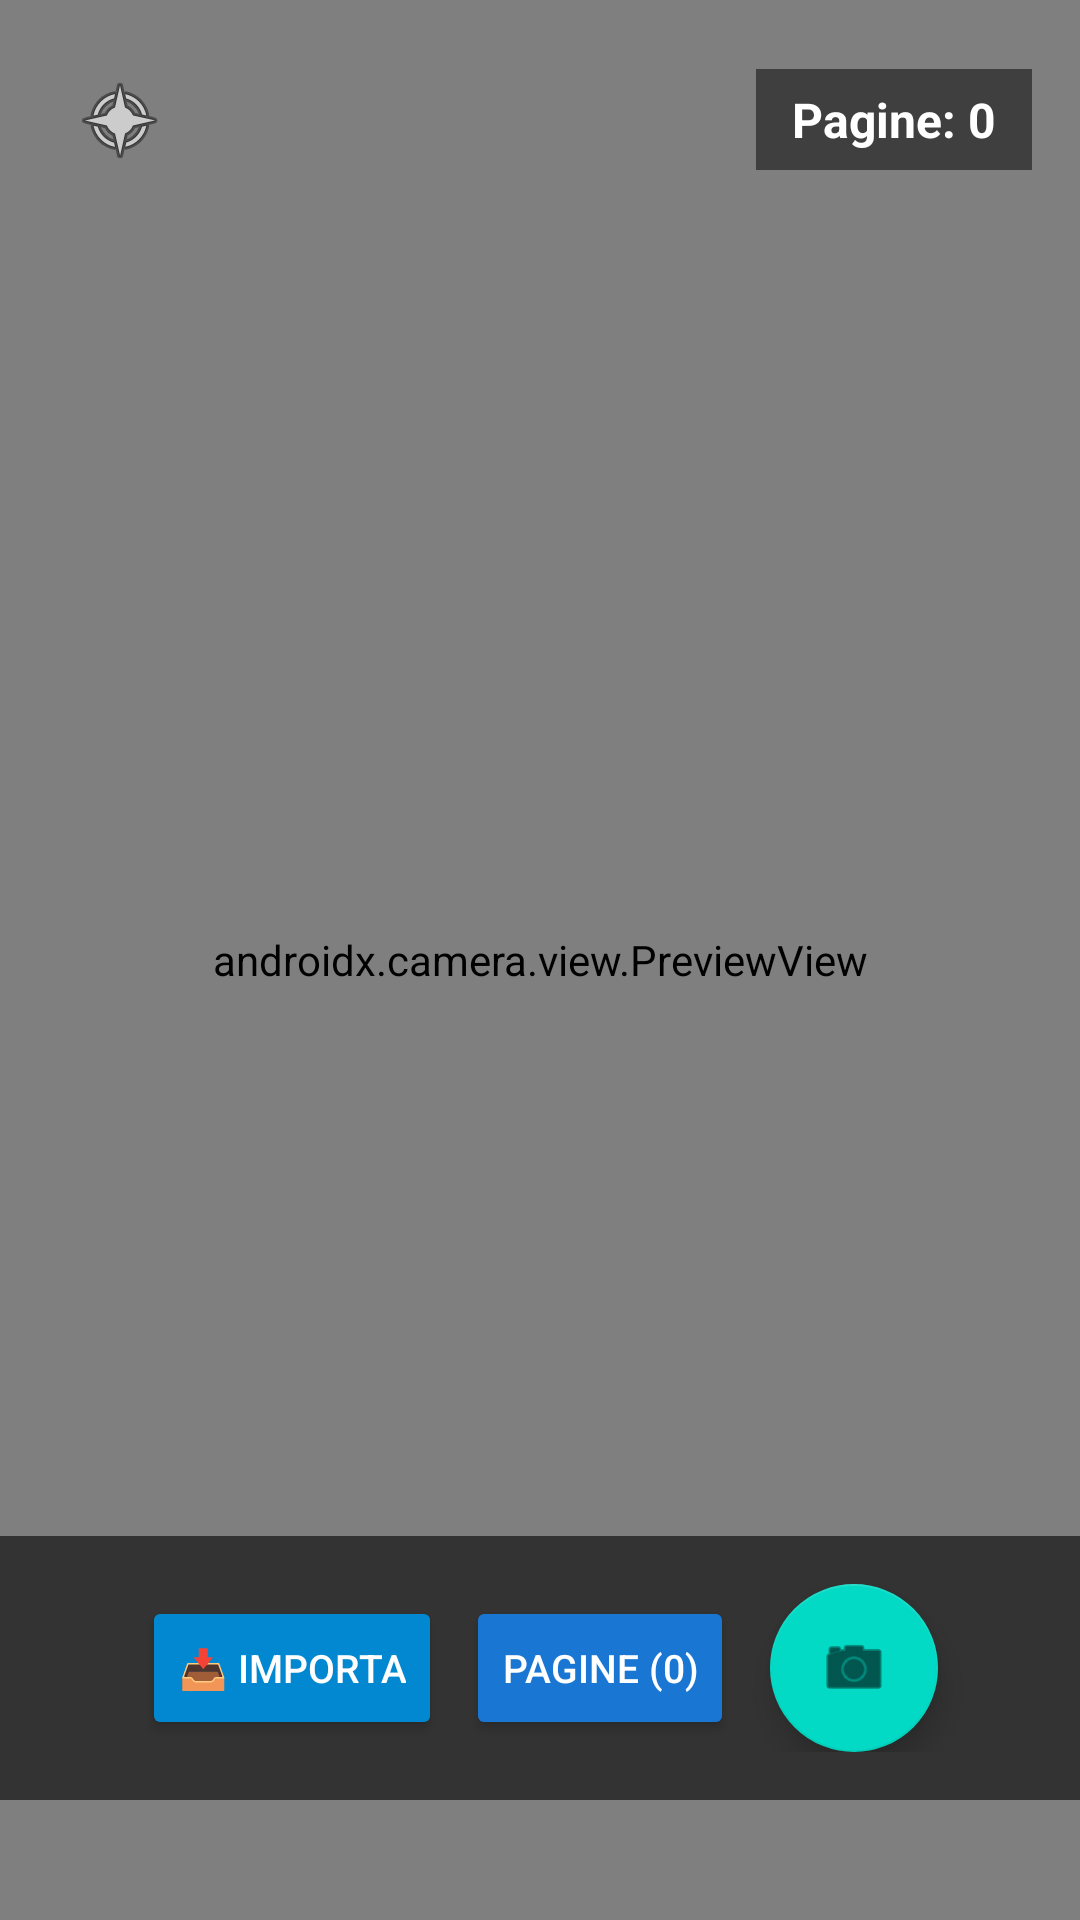

Icons on this 1080px x 1920px Android screen, each with its box as [left=x1, top=y1, right=x2, bottom=y2]:
Scatta: [left=770, top=1584, right=938, bottom=1752]
